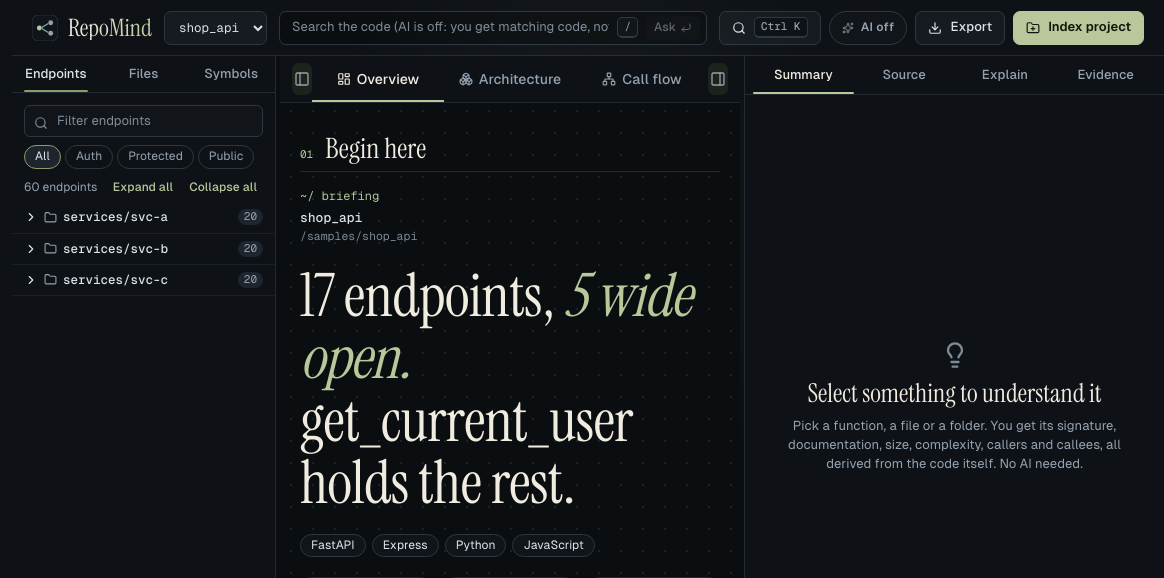
Collapsible endpoints › Expand all and Collapse all work, and filtering shows every match
Expected: the button "services/svc-a 20" is shown, [12, 202, 275, 232]
Click the button "Expand all" at (143, 188), box [107, 177, 179, 198]
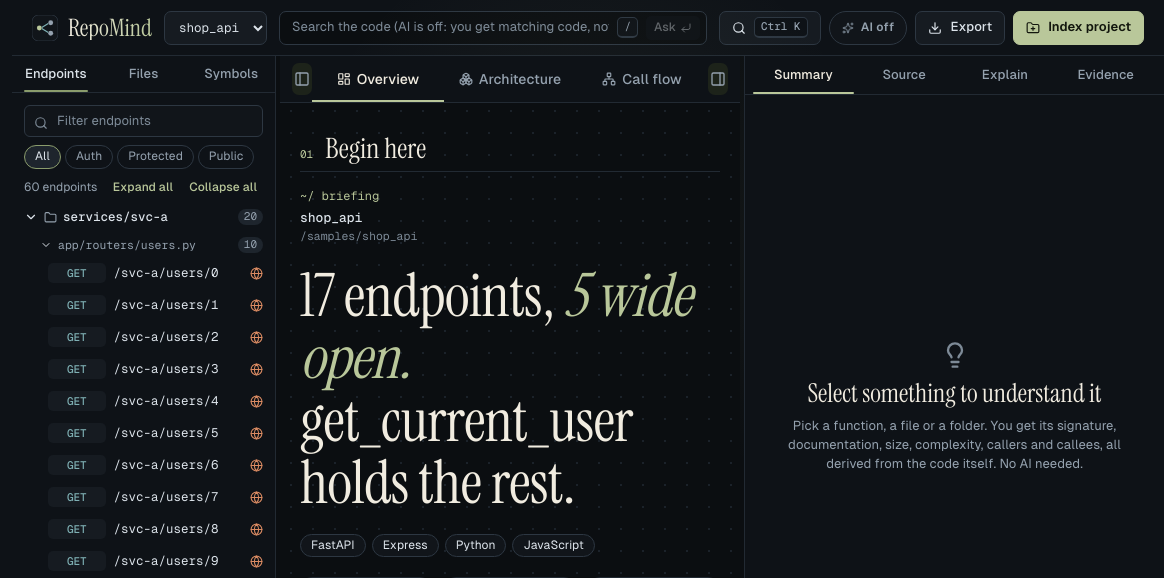
Click the button "Collapse all" at (223, 188), box [183, 177, 263, 198]
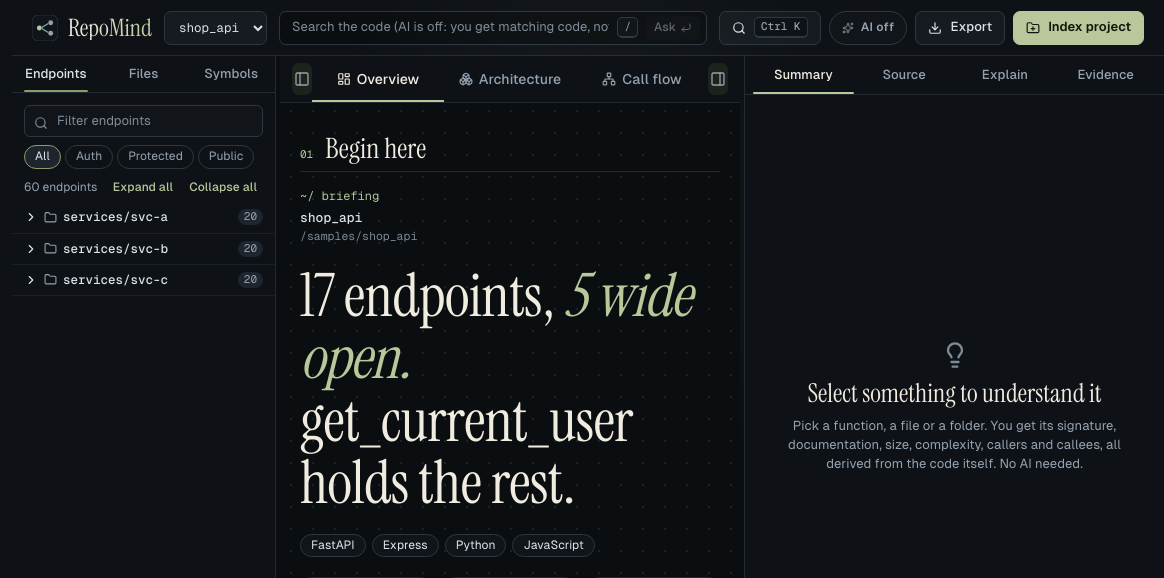
searching must not hide results behind collapsed groups
Type "svc-b/orders/3" into the search field with placeholder "Filter endpoints" at (144, 121), box [24, 105, 263, 137]
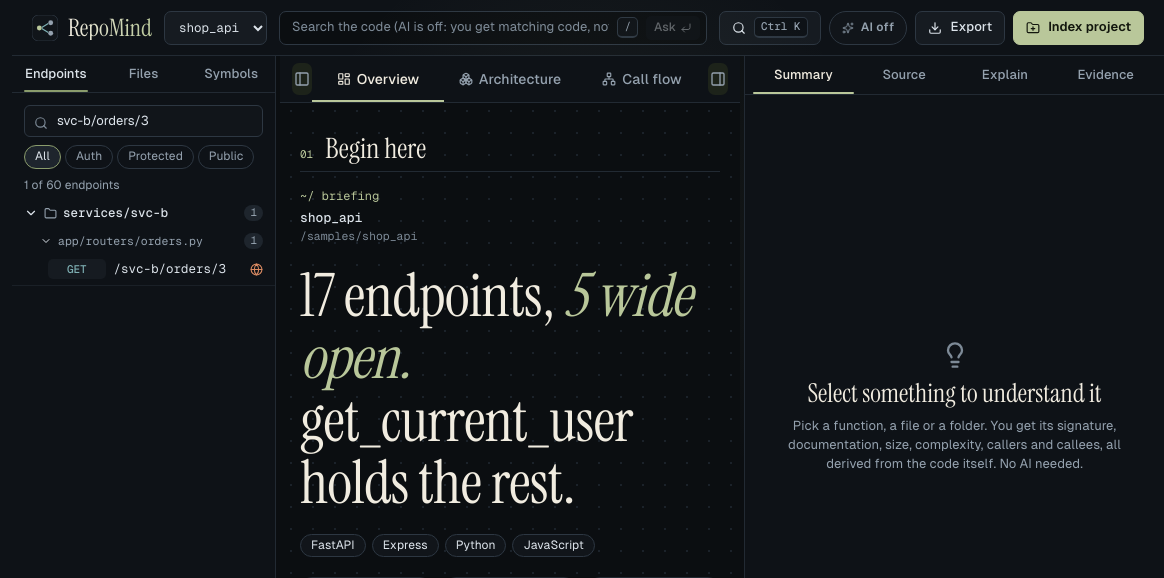
Expected: the text "/svc-b/orders/3" is shown, [114, 260, 242, 278]
Expected: the text "1 of 60 endpoints" is shown, [24, 177, 120, 194]
